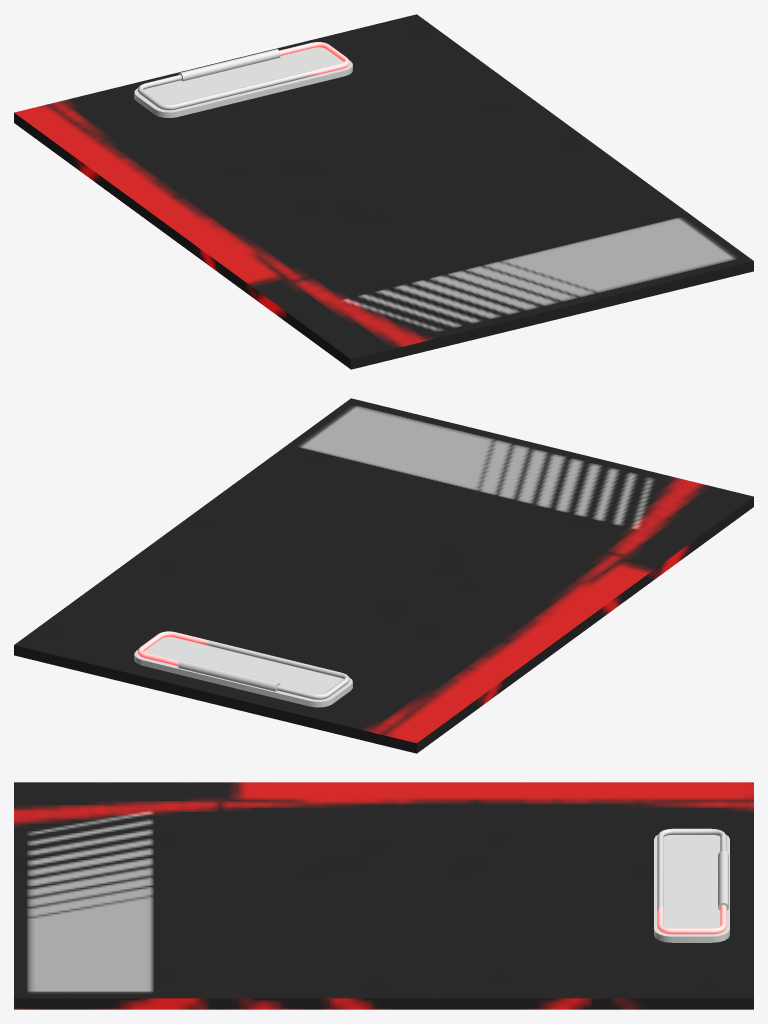
File: SM_Folders_PapperHolderA.fbx
3 renders of one model, top to bottom at view 1: azimuth 30°, elevation 25°; view 2: azimuth 150°, elevation 25°; view 3: azimuth 270°, elevation 25°, orthographic. The views are drawn at different scales.
Parts seen in each view (by area): view 1: SM_Folders_PapperHolderA_LOD0; view 2: SM_Folders_PapperHolderA_LOD0; view 3: SM_Folders_PapperHolderA_LOD0.
Boxes of the visible parts, x1,y1,x2,y2 form: SM_Folders_PapperHolderA_LOD0: [14, 14, 753, 369]; SM_Folders_PapperHolderA_LOD0: [14, 398, 753, 753]; SM_Folders_PapperHolderA_LOD0: [14, 782, 753, 1009].
Size of the model in its own units: 16.48 by 23.89 by 0.8856.
Materials: 1 (1 with a texture image).
